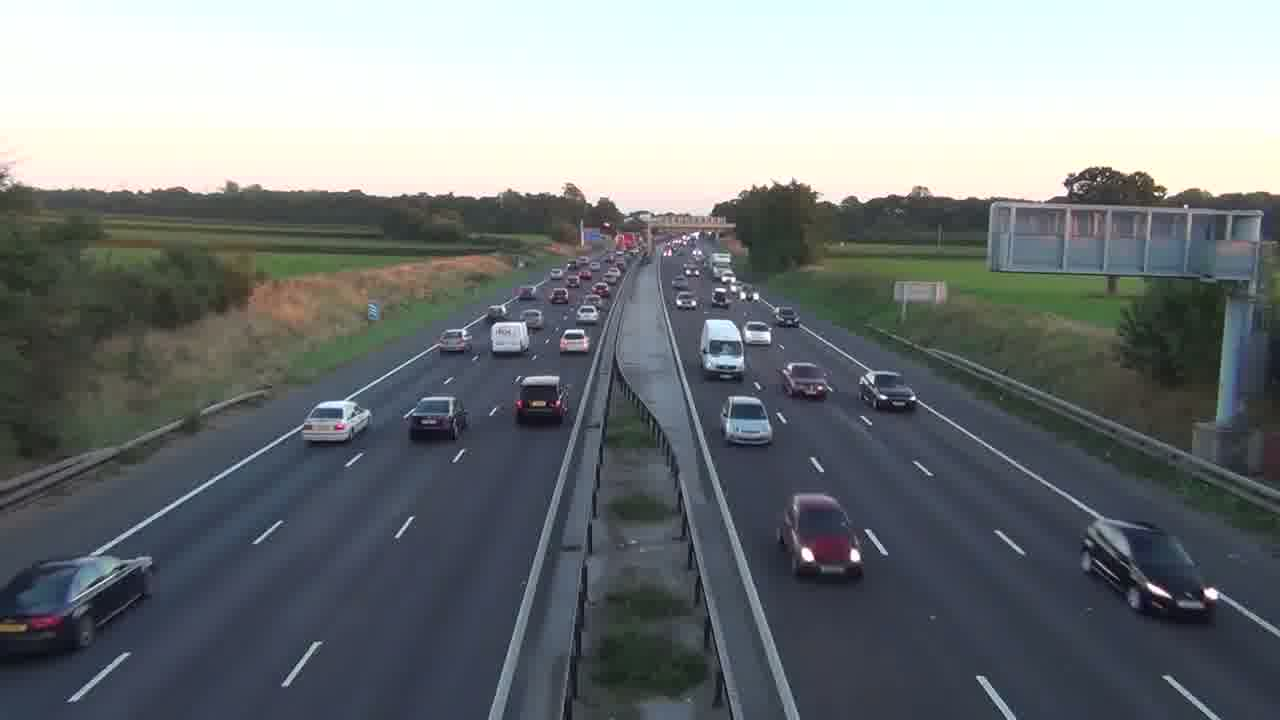car: (1079, 516, 1219, 624), (778, 492, 866, 580), (303, 399, 371, 444), (404, 395, 469, 440), (513, 373, 569, 425), (720, 395, 774, 446), (858, 370, 917, 411), (778, 360, 833, 402)
truck: (0, 552, 156, 658)
